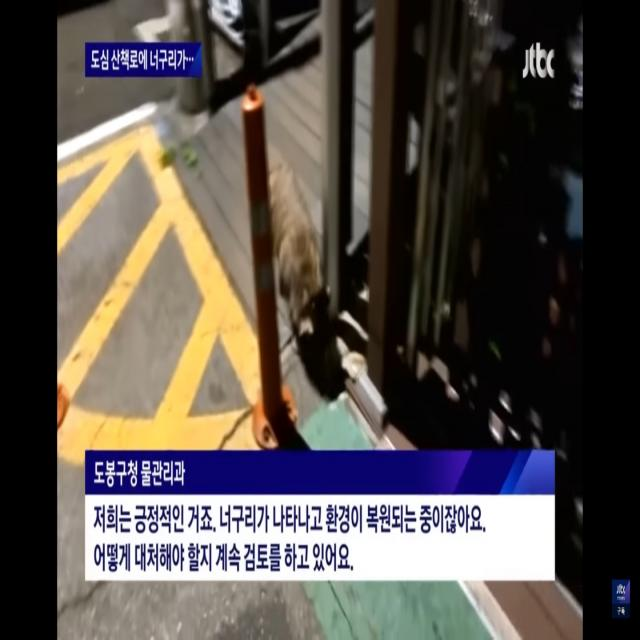racoon: (268, 158, 329, 360)
